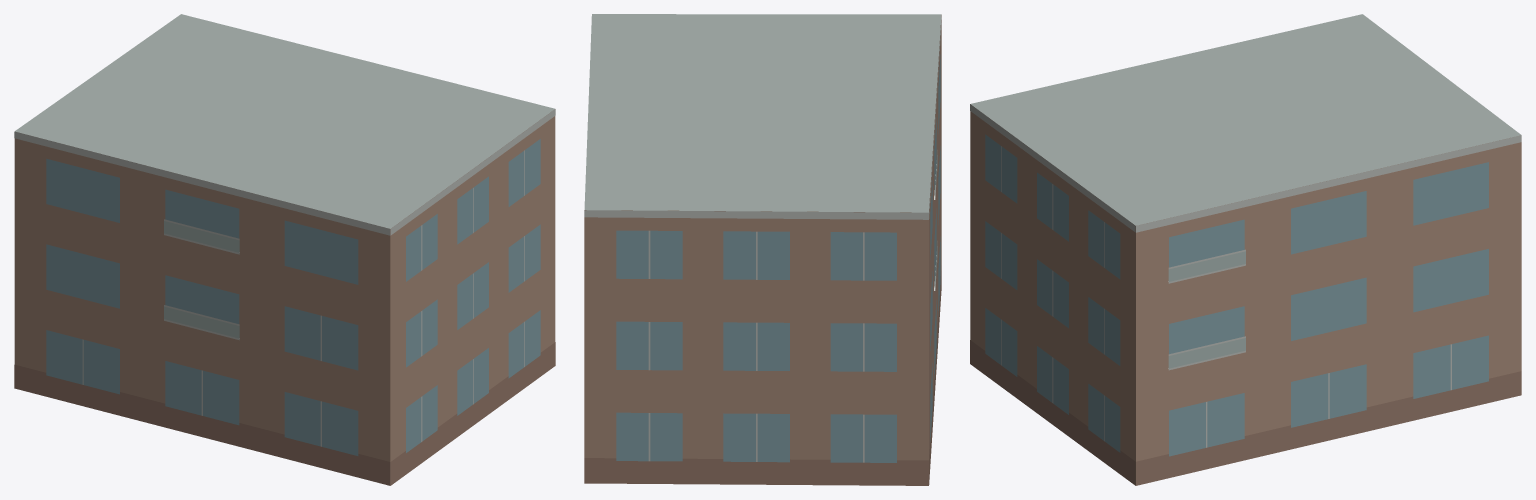
Rendered from survey-upis-32705837.glb.
3 renders of one model, left to right at view 1: azimuth 30°, elevation 25°; view 2: azimuth 150°, elevation 25°; view 3: azimuth 270°, elevation 25°, orthographic. The views are drawn at different scales.
Parts seen in each view (by area): view 1: survey-upis-32705837.tmp; view 2: survey-upis-32705837.tmp; view 3: survey-upis-32705837.tmp.
Part boxes in pixels (x1,y1,x2,y2): survey-upis-32705837.tmp: [14, 14, 555, 485]; survey-upis-32705837.tmp: [584, 14, 941, 485]; survey-upis-32705837.tmp: [970, 14, 1521, 485].
Size of the model in its own units: 15.99 by 9.15 by 17.6.
